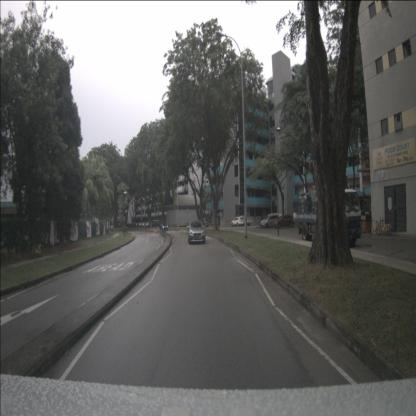human-pedestrian-adult: (217, 213, 222, 230)
vehicle-bicycle: (29, 231, 43, 260)
vehicle-car: (188, 220, 206, 244), (272, 214, 294, 230), (260, 213, 282, 228), (238, 215, 253, 226), (231, 217, 244, 227), (200, 218, 208, 228), (160, 222, 168, 232)
vehicle-truck: (295, 188, 362, 246)
